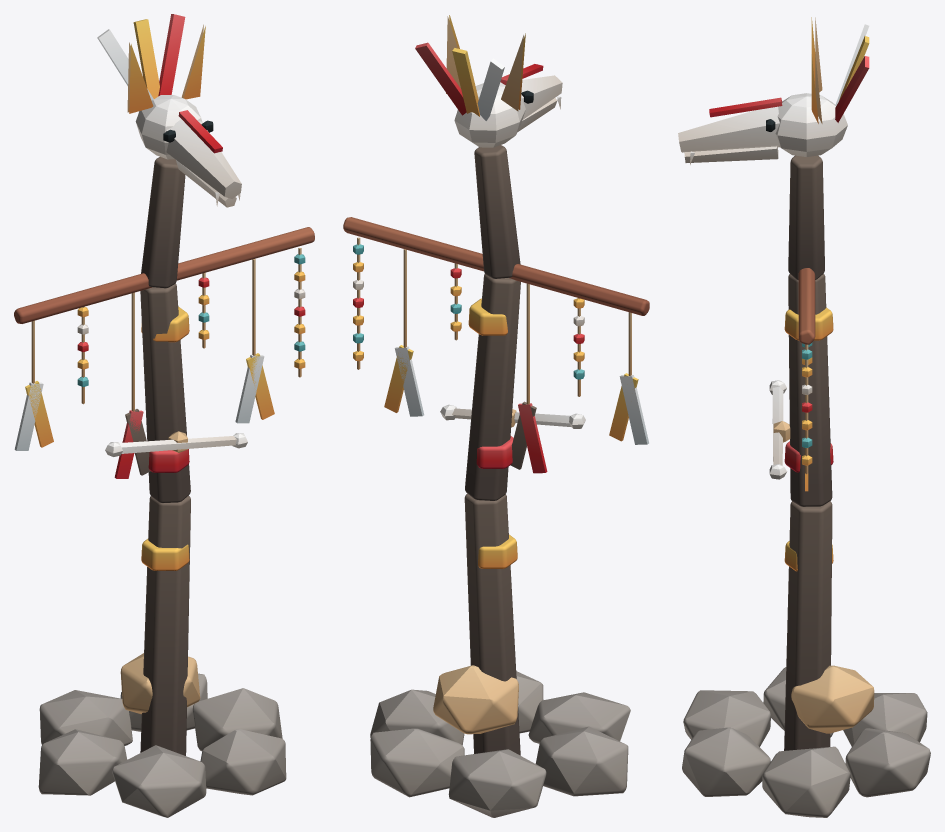
Rendered from dustpaw_totem.glb.
3 renders of one model, left to right at view 1: azimuth 30°, elevation 25°; view 2: azimuth 150°, elevation 25°; view 3: azimuth 270°, elevation 25°, orthographic.
Visible parts, largest first — view 1: dustpaw_totem; view 2: dustpaw_totem; view 3: dustpaw_totem.
Part boxes in pixels (x1,y1,x2,y2): dustpaw_totem: (14, 14, 314, 817); dustpaw_totem: (343, 15, 649, 817); dustpaw_totem: (678, 17, 930, 817).
Bounding box in the file's own units: 1.43 × 3.42 × 1.04.
Materials: 1 (1 with a texture image).
